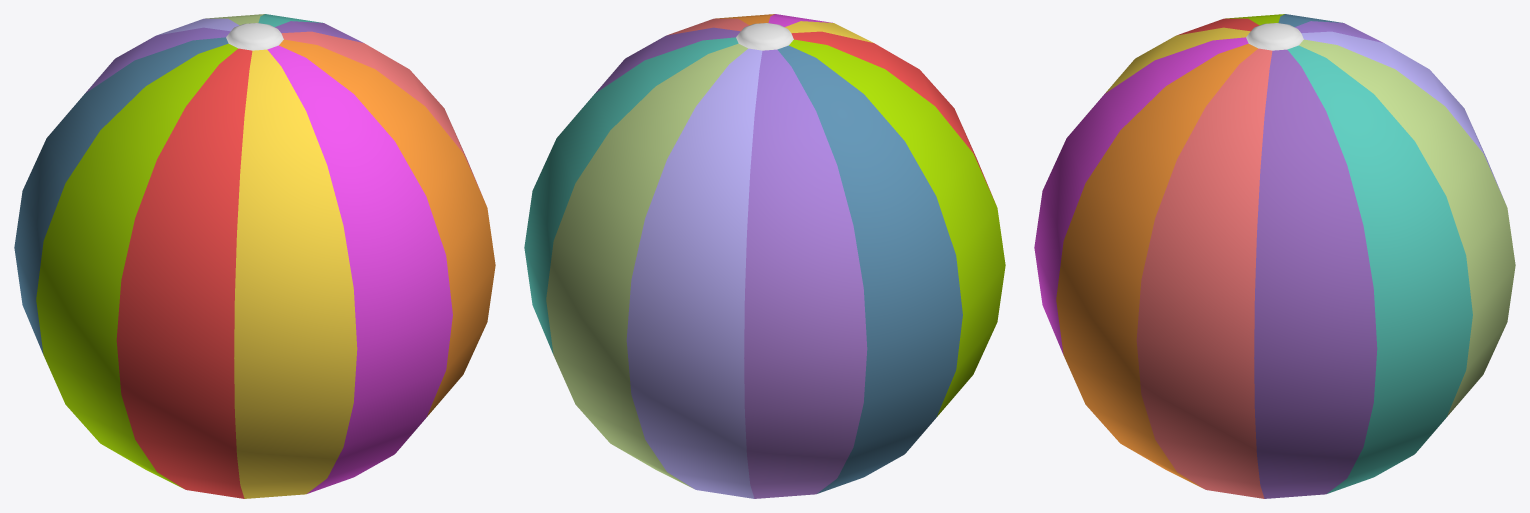
Rendered from Ball_M.fbx.
3 renders of one model, left to right at view 1: azimuth 30°, elevation 25°; view 2: azimuth 150°, elevation 25°; view 3: azimuth 270°, elevation 25°, orthographic.
Visible parts, largest first — view 1: Ball_M; view 2: Ball_M; view 3: Ball_M.
Boxes of the visible parts, x1,y1,x2,y2 form: Ball_M: [14, 14, 495, 498]; Ball_M: [524, 14, 1005, 498]; Ball_M: [1034, 14, 1515, 498].
Bounding box in the file's own units: 59.28 × 61.8 × 59.28.
1 material, 1 textured.
